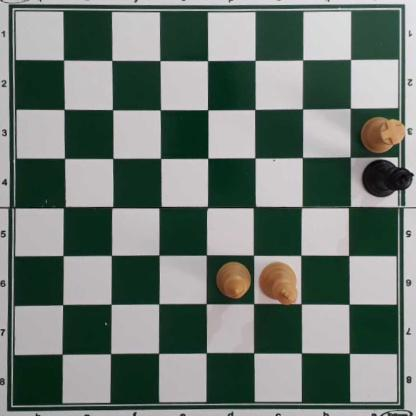black-king: (360, 158, 415, 198)
white-bishop: (217, 262, 252, 300)
white-king: (258, 263, 300, 306)
white-rook: (360, 117, 406, 153)
